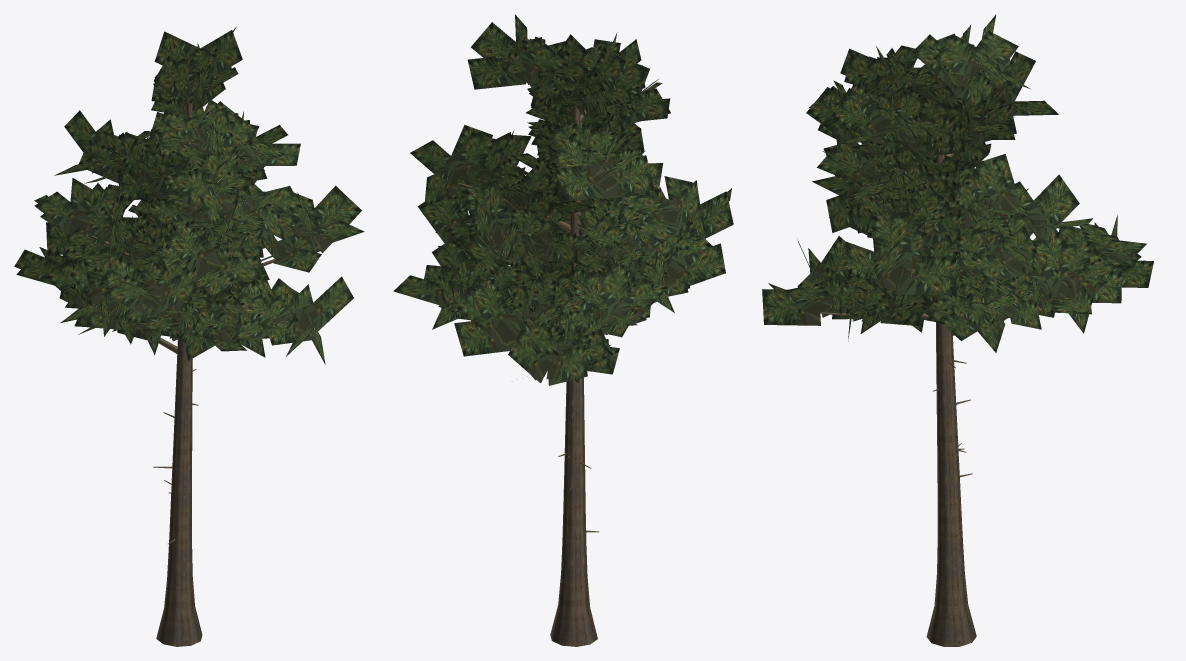
File: Pine_A.gltf
The picture shows the model from 3 angles, left to right: view 1: azimuth 30°, elevation 25°; view 2: azimuth 150°, elevation 25°; view 3: azimuth 270°, elevation 25°; orthographic projection. The views are drawn at different scales.
Visible parts, largest first — view 1: Pine_A; view 2: Pine_A; view 3: Pine_A.
Boxes of the visible parts, bbox=[...] form: Pine_A: bbox=[14, 26, 364, 646]; Pine_A: bbox=[393, 14, 733, 646]; Pine_A: bbox=[762, 14, 1153, 646].
Size of the model in its own units: 9.25 by 18.85 by 11.03.
Materials: 2 (2 with a texture image).
